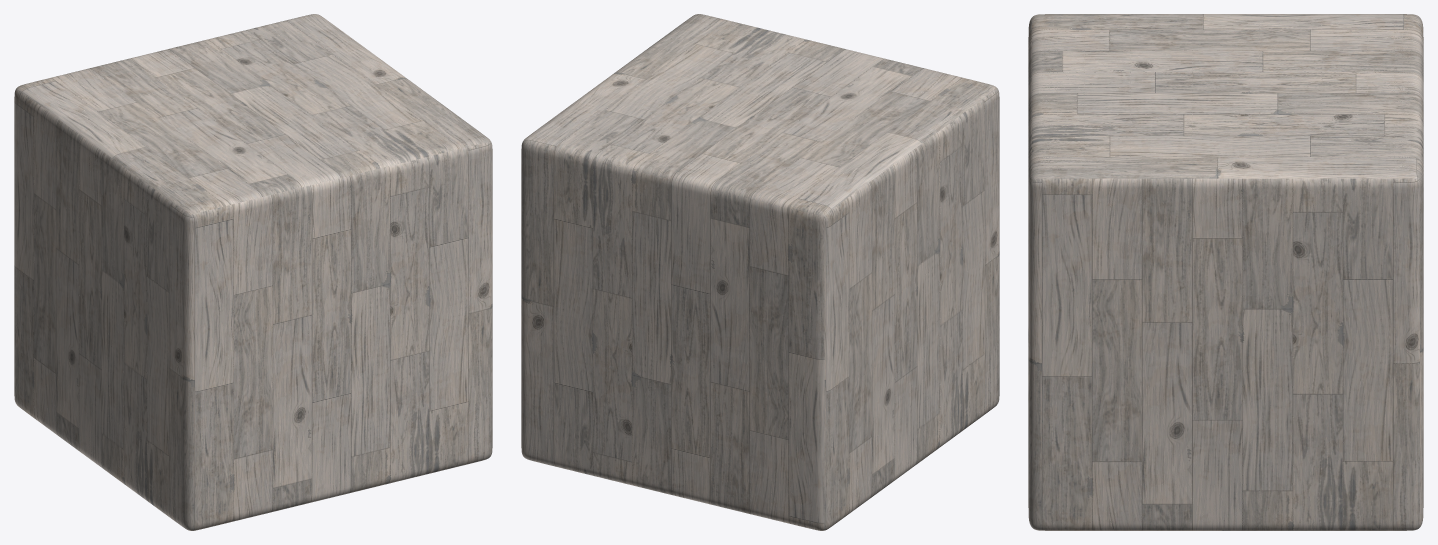
File: party-deck.glb
3 renders of one model, left to right at view 1: azimuth 30°, elevation 25°; view 2: azimuth 150°, elevation 25°; view 3: azimuth 270°, elevation 25°, orthographic. The views are drawn at different scales.
Visible parts, largest first — view 1: Cube; view 2: Cube; view 3: Cube.
Boxes of the visible parts, bbox=[...] form: Cube: bbox=[14, 14, 492, 530]; Cube: bbox=[521, 14, 999, 530]; Cube: bbox=[1028, 14, 1423, 530].
Size of the model in its own units: 200 by 200 by 200.
1 material, 1 textured.
